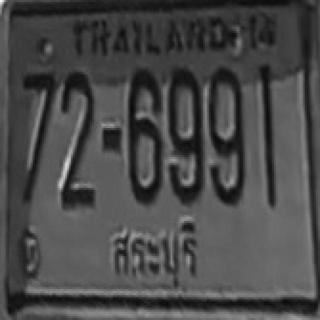N00: (208, 66, 242, 153), (167, 66, 201, 151)
N07: (21, 72, 56, 147)
N09: (167, 85, 203, 202), (207, 96, 243, 203), (167, 98, 203, 201)
P60: (108, 215, 203, 294)
